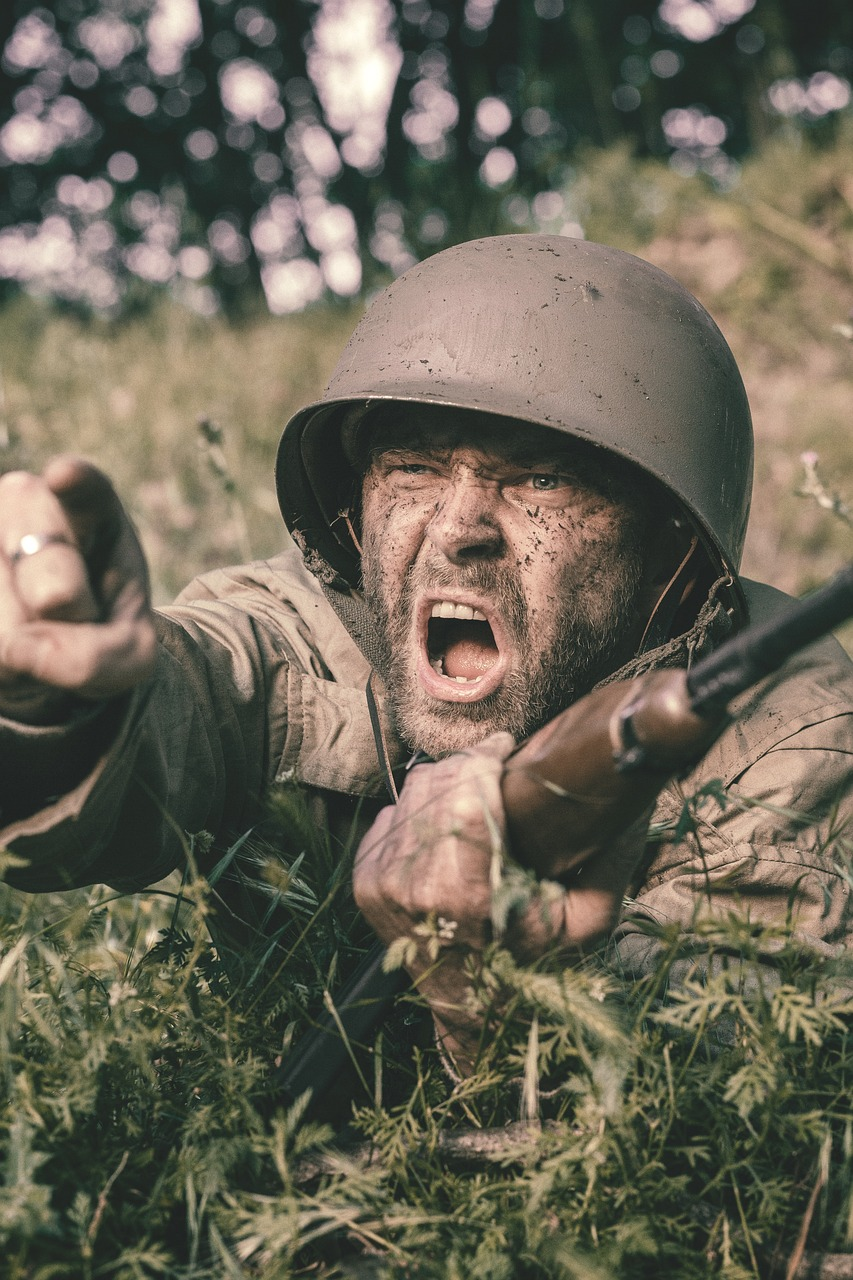gun: (267, 556, 853, 1112)
